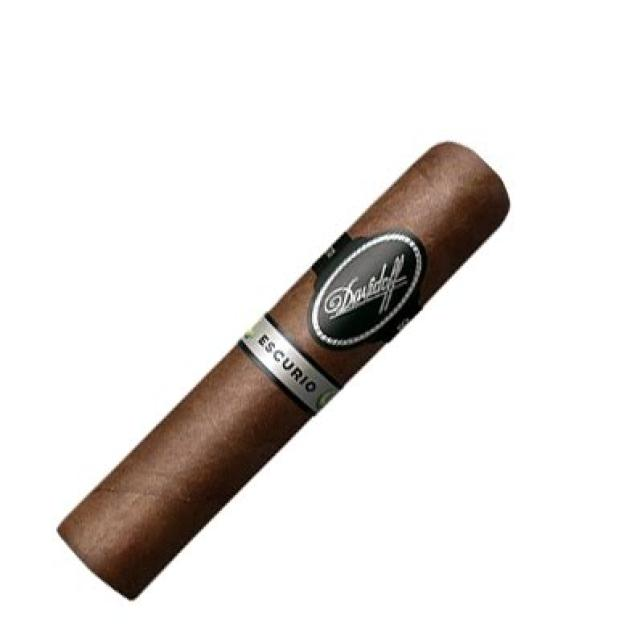Davidoff: (306, 229, 430, 353)
